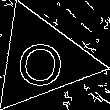O_N: (16, 31, 69, 88)
